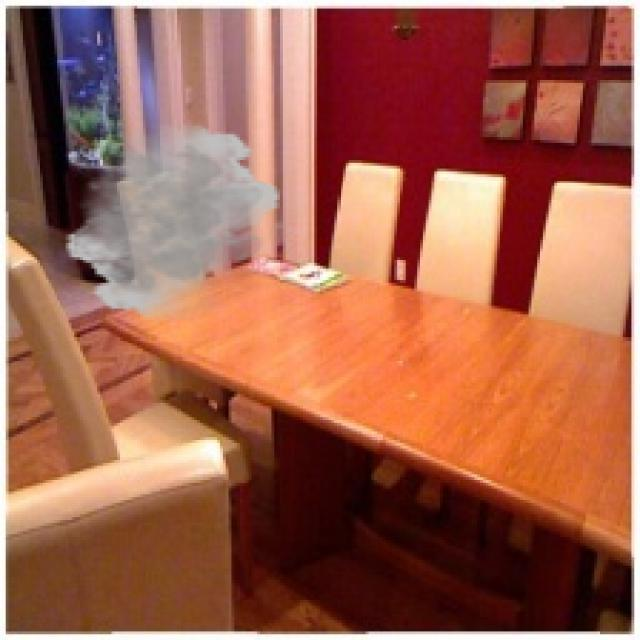Smoke: (63, 120, 283, 323)
